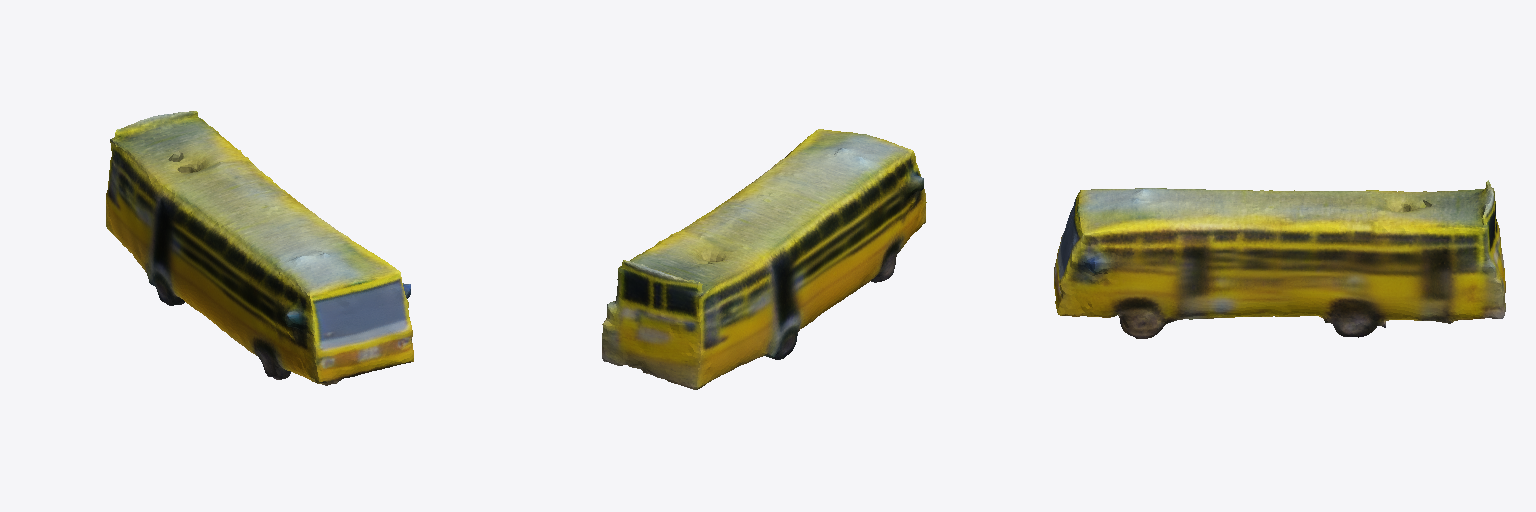
The picture shows the model from 3 angles: view 1: azimuth 30°, elevation 25°; view 2: azimuth 150°, elevation 25°; view 3: azimuth 270°, elevation 25°; orthographic projection.
Bounding box in the file's own units: 0.3305 × 0.3101 × 1.03.
Materials: 1 (1 with a texture image).